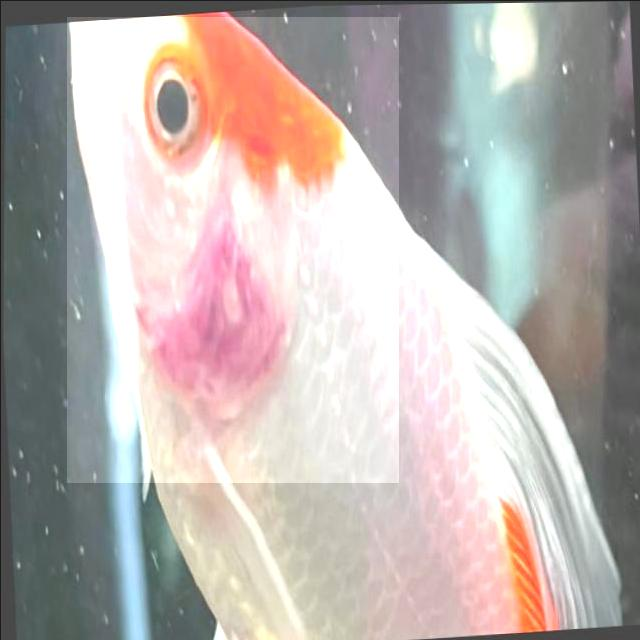Gill Disease: (66, 16, 398, 482)
